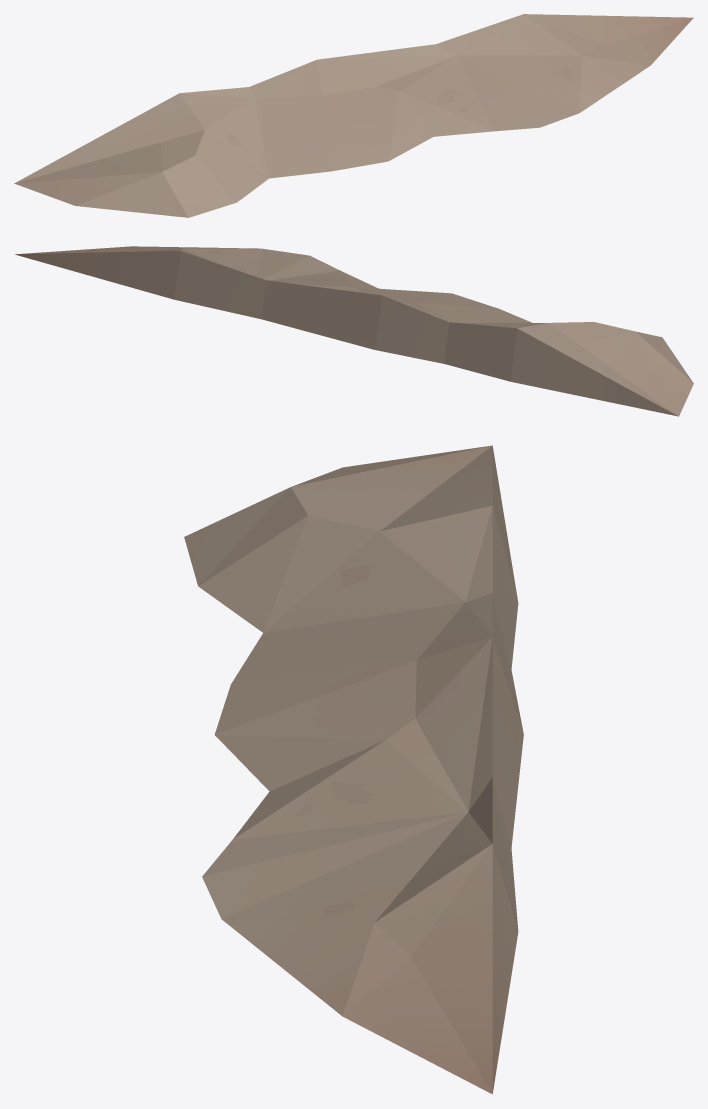
File: SM_Env_Sand_Edge_02.fbx
3 renders of one model, top to bottom at view 1: azimuth 30°, elevation 25°; view 2: azimuth 150°, elevation 25°; view 3: azimuth 270°, elevation 25°, orthographic. The views are drawn at different scales.
Parts seen in each view (by area): view 1: SM_Env_Sand_Edge_02; view 2: SM_Env_Sand_Edge_02; view 3: SM_Env_Sand_Edge_02.
Boxes of the visible parts, x1,y1,x2,y2 form: SM_Env_Sand_Edge_02: [14, 14, 693, 217]; SM_Env_Sand_Edge_02: [15, 246, 693, 416]; SM_Env_Sand_Edge_02: [184, 445, 523, 1094].
Bounding box in the file's own units: 811 × 56.95 × 179.
